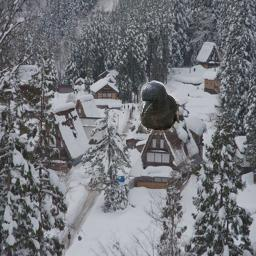Crow: (139, 82, 179, 135)
